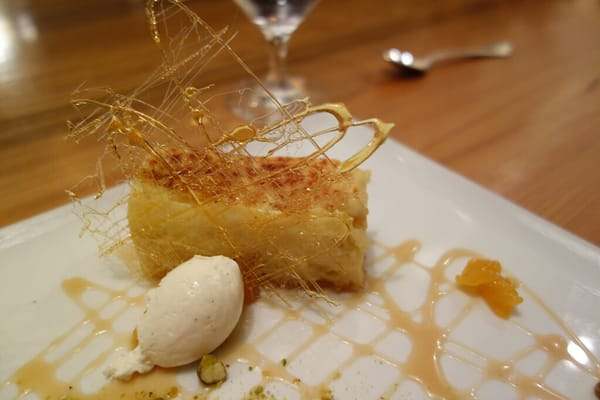salad: (381, 40, 513, 73)
